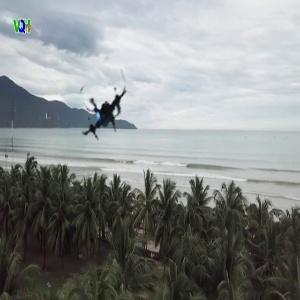drone: (73, 77, 139, 143)
